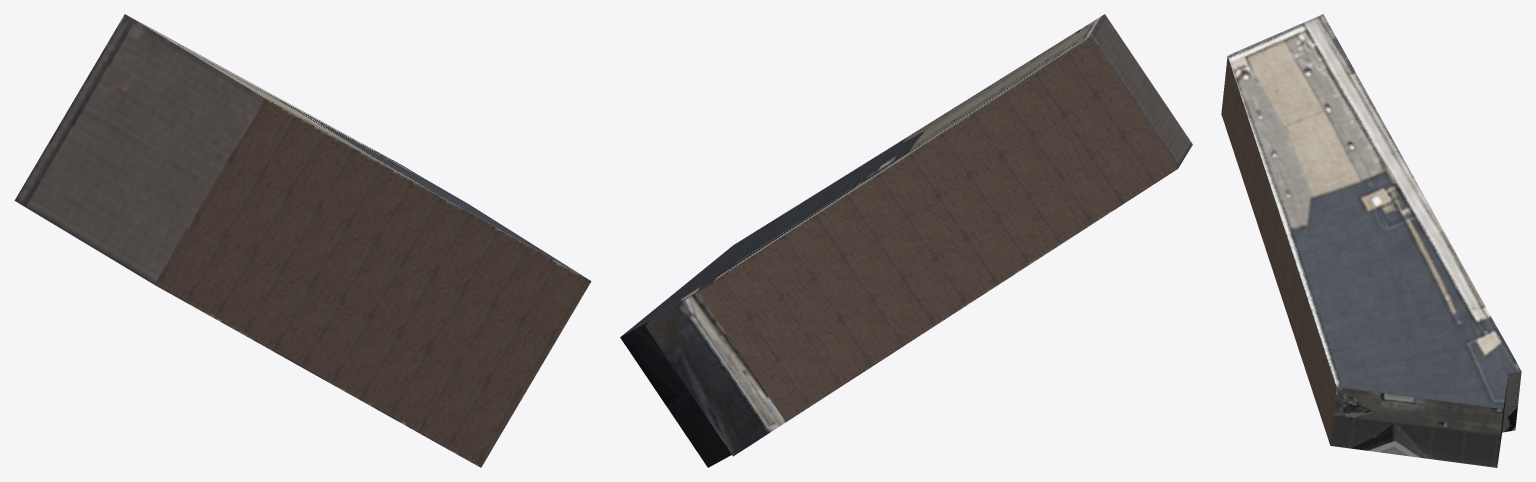
3 renders of one model, left to right at view 1: azimuth 30°, elevation 25°; view 2: azimuth 150°, elevation 25°; view 3: azimuth 270°, elevation 25°, orthographic. The views are drawn at different scales.
Visible parts, largest first — view 1: BAG_0599100000760370 (×2); view 2: BAG_0599100000760370 (×3); view 3: BAG_0599100000760370 (×2).
Part boxes in pixels (<box>): BAG_0599100000760370 (×2): <box>14,14,591,467</box>; BAG_0599100000760370 (×3): <box>620,14,1192,467</box>; BAG_0599100000760370 (×2): <box>1221,14,1521,467</box>.
Size of the model in its own units: 12.28 by 11.08 by 8.77.
Materials: 1 (1 with a texture image).
